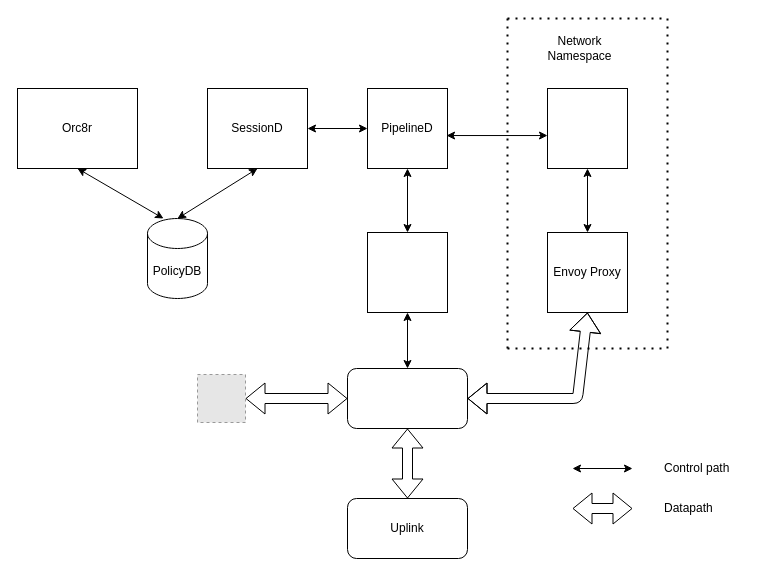
Image size: 780x576. Some labels were removed from this diagram. Grey dashed boxes stand in for pictures. The centre of each missing label's shape, as x and y in pixels:
Envoy controller: [587,128]
OVS: [407,272]
OVS Bridge: [407,398]
